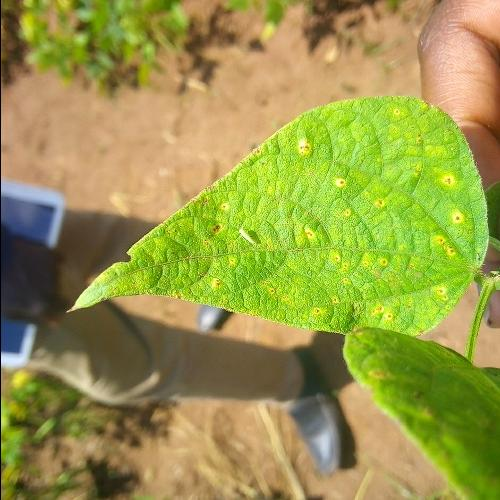embun tepung: (106, 225, 308, 338)
hawar: (303, 141, 486, 318)
